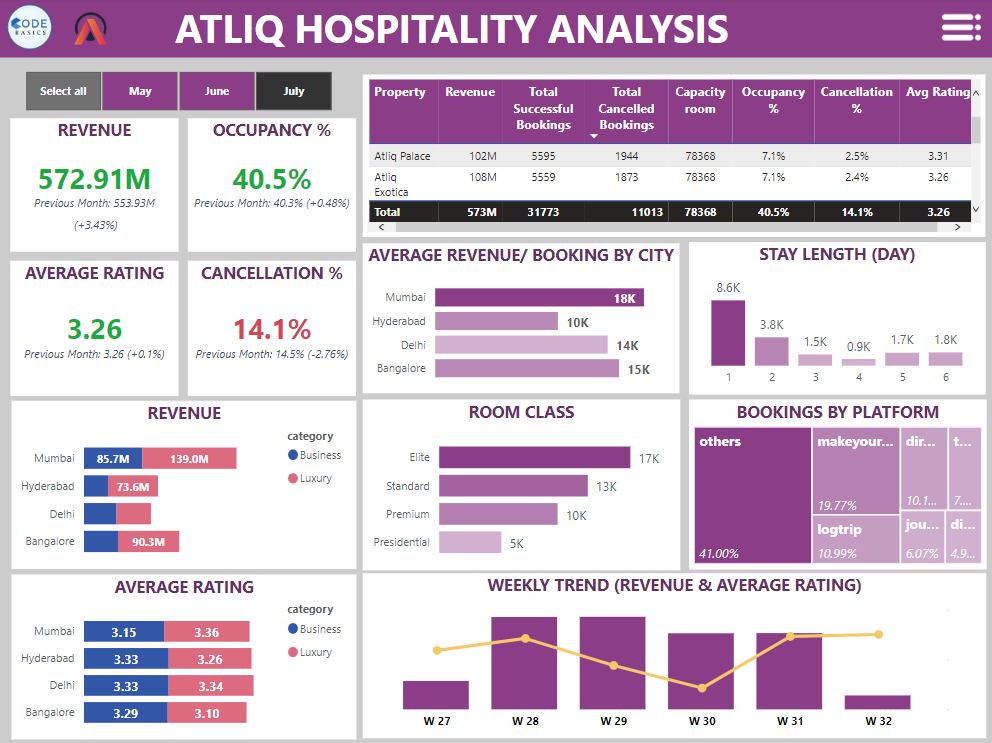

This screenshot's page, from the dashboard's own definition file:
{"tool":"powerbi","page":{"name":"Dashboard","canvas":[960,720],"ordinal":0},"visuals":[{"type":"textbox","box":[0,0,1280,58.3],"z":0,"group":"g1"},{"type":"shape","box":[673,58,287,662],"z":0,"group":"g3"},{"type":"slicer","fields":{"Values":["dim_date.monthyear"]},"box":[0,65.6,344.4,51.4],"z":0,"group":"g2"},{"type":"group","id":"g1","title":"Menu bar","box":[0,0,1280,58.9],"z":1000},{"type":"image","box":[0,0,58.9,57.8],"z":1000,"group":"g1"},{"type":"pageNavigator","box":[707.4,408.9,221.1,263.3],"z":1000,"group":"g3"},{"type":"card","title":"TOTAL CAPACITY","fields":{"Values":["CountNonNull(fact_bookings.booking_id)"]},"box":[1027.8,450.9,144.4,61.4],"z":1000,"group":"g2"},{"type":"image","box":[58.9,1.1,55.6,57.8],"z":2000,"group":"g1"},{"type":"group","id":"g2","title":"Chart","box":[0,65.6,1172.2,651.1],"z":2000},{"type":"slicer","fields":{"Values":["dim_hotels.property_name"]},"box":[708.9,236.7,220,70],"z":2000,"group":"g3"},{"type":"treemap","title":"BOOKINGS BY PLATFORM","fields":{"Values":["CountNonNull(fact_bookings.booking_id)"],"Group":["fact_bookings.booking_platform"]},"box":[665.5,388.7,287.3,163.6],"z":2000,"group":"g2"},{"type":"group","id":"g3","title":"Nav bar","box":[673,58,287,662],"z":2500},{"type":"actionButton","box":[905.7,0,45.7,58.6],"z":3000,"group":"g1"},{"type":"kpi","title":"OCCUPANCY %","fields":{"TrendLine":["dim_date.month"],"Goal":["pre_month.Premonth Occupancy %"],"Indicator":["fact_aggregated_bookings.Occupancy %"]},"box":[182.2,117,162.2,128.4],"z":3000,"group":"g2"},{"type":"slicer","fields":{"Values":["dim_rooms.room_class"]},"box":[708.9,318.9,220,70],"z":3000,"group":"g3"},{"type":"slicer","fields":{"Values":["dim_hotels.category"]},"box":[708.9,73.3,220,70],"z":4000,"group":"g3"},{"type":"kpi","title":"CANCELLATION %","fields":{"TrendLine":["dim_date.month"],"Goal":["pre_month.Premonth Cancellation %"],"Indicator":["fact_aggregated_bookings.Cancellation %"]},"box":[182.2,254.4,162.2,130.7],"z":4000,"group":"g2"},{"type":"slicer","fields":{"Values":["dim_hotels.city"]},"box":[708.9,156.7,220,70],"z":5000,"group":"g3"},{"type":"kpi","title":"AVERAGE RATING","fields":{"TrendLine":["dim_date.month"],"Goal":["pre_month.Premonth rating"],"Indicator":["Avg(fact_bookings.ratings_given)"]},"box":[11.1,254.4,162.2,130.7],"z":5000,"group":"g2"},{"type":"clusteredBarChart","title":"ROOM CLASS","fields":{"Category":["dim_rooms.room_class"],"Y":["CountNonNull(fact_bookings.booking_id)"]},"box":[350.8,388.2,306.2,164.6],"z":6000,"group":"g2"},{"type":"actionButton","box":[795,672.5,111.2,43.8],"z":6000,"group":"g3"},{"type":"clusteredBarChart","title":"AVERAGE REVENUE/ BOOKING BY CITY","fields":{"Category":["dim_hotels.city"],"Y":["Avg(revenue_per_booking.revenue_avg)"]},"box":[351.1,238.3,305.6,144.4],"z":7000,"group":"g2"},{"type":"lineStackedColumnComboChart","title":"WEEKLY TREND (REVENUE & AVERAGE RATING)","fields":{"Category":["dim_date.week no"],"Y2":["Avg(fact_bookings.ratings_given)"],"Y":["Sum(fact_bookings.revenue_realized)"]},"box":[350.8,556.7,601.5,159.2],"z":8000,"group":"g2"},{"type":"clusteredColumnChart","title":" STAY LENGTH (DAY)","fields":{"Category":["fact_bookings.stay_day"],"Y":["Divide(CountNonNull(fact_bookings.booking_id), ScopedEval(CountNonNull(fact_bookings.booking_id), []))"]},"box":[665.5,236.9,286.4,147.3],"z":9000,"group":"g2"},{"type":"tableEx","fields":{"Values":["dim_hotels.property_name","Sum(fact_bookings.revenue_realized)","fact_aggregated_bookings.Total Successful Bookings","fact_aggregated_bookings.Total Cancelled Bookings","Sum(fact_aggregated_bookings.capacity)","fact_aggregated_bookings.Occupancy %","fact_aggregated_bookings.Cancellation %","Avg(fact_bookings.ratings_given)"]},"box":[351.1,75,601.1,156.7],"z":10000,"group":"g2"},{"type":"barChart","title":"AVERAGE RATING","fields":{"Category":["dim_hotels.city"],"Series":["dim_hotels.category"],"Y":["Avg(fact_bookings.ratings_given)"]},"box":[11.5,557.5,333.1,159.2],"z":11000,"group":"g2"},{"type":"kpi","title":"REVENUE","fields":{"Indicator":["fact_aggregated_bookings.Revenue_sum"],"Goal":["pre_month.Premonth_revenue"],"TrendLine":["dim_date.mmm yy.Variation.Date Hierarchy.Year"]},"box":[11.1,117,162.2,128.4],"z":12000,"group":"g2"},{"type":"barChart","title":"REVENUE","fields":{"Category":["dim_hotels.city"],"Y":["Sum(fact_bookings.revenue_realized)"],"Series":["dim_hotels.category"]},"box":[11.5,389.8,333.1,162.3],"z":13000,"group":"g2"}]}

Visuals, with their boxes in screenshot pixels (x1, y1, x2, y2), scaled from the page's 960x720 canvas onto the 992x743 screenshot:
textbox: (left=0, top=0, right=991, bottom=60)
shape: (left=695, top=60, right=991, bottom=742)
slicer - dim_date.monthyear: (left=0, top=68, right=356, bottom=121)
"Menu bar" group: (left=0, top=0, right=991, bottom=61)
image: (left=0, top=0, right=61, bottom=60)
pageNavigator: (left=731, top=422, right=959, bottom=694)
image: (left=61, top=1, right=118, bottom=61)
"Chart" group: (left=0, top=68, right=991, bottom=740)
slicer - dim_hotels.property_name: (left=733, top=244, right=960, bottom=316)
"BOOKINGS BY PLATFORM" treemap: (left=688, top=401, right=985, bottom=570)
"Nav bar" group: (left=695, top=60, right=991, bottom=742)
actionButton: (left=936, top=0, right=983, bottom=60)
"OCCUPANCY %" kpi: (left=188, top=121, right=356, bottom=253)
slicer - dim_rooms.room_class: (left=733, top=329, right=960, bottom=401)
slicer - dim_hotels.category: (left=733, top=76, right=960, bottom=148)
"CANCELLATION %" kpi: (left=188, top=263, right=356, bottom=397)
slicer - dim_hotels.city: (left=733, top=162, right=960, bottom=234)
"AVERAGE RATING" kpi: (left=11, top=263, right=179, bottom=397)
"ROOM CLASS" clusteredBarChart: (left=362, top=401, right=679, bottom=570)
actionButton: (left=822, top=694, right=936, bottom=739)
"AVERAGE REVENUE/ BOOKING BY CITY" clusteredBarChart: (left=363, top=246, right=679, bottom=395)
"WEEKLY TREND (REVENUE & AVERAGE RATING)" lineStackedColumnComboChart: (left=362, top=574, right=984, bottom=739)
" STAY LENGTH (DAY)" clusteredColumnChart: (left=688, top=244, right=984, bottom=396)
tableEx - dim_hotels.property_name x Sum(fact_bookings.revenue_realized): (left=363, top=77, right=984, bottom=239)
"AVERAGE RATING" barChart: (left=12, top=575, right=356, bottom=740)
"REVENUE" kpi: (left=11, top=121, right=179, bottom=253)
"REVENUE" barChart: (left=12, top=402, right=356, bottom=570)
